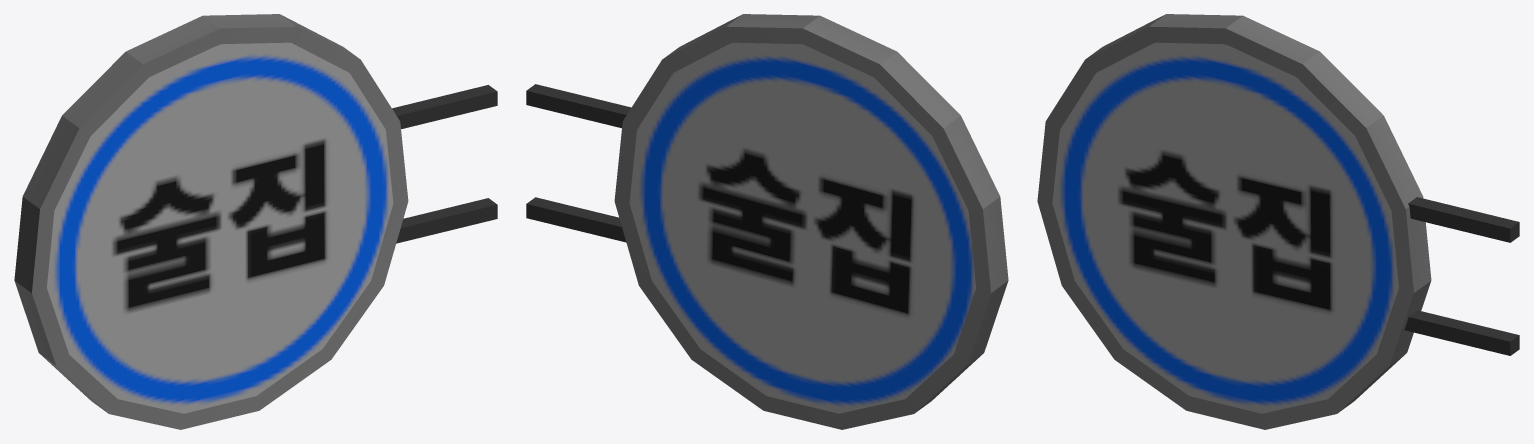
The model's file is B02_Enseigne_B_02.fbx.
3 views of the same model, side by side, from view 1: azimuth 30°, elevation 25°; view 2: azimuth 150°, elevation 25°; view 3: azimuth 330°, elevation 25° (orthographic).
Visible parts, largest first — view 1: B02_Enseigne_B_02; view 2: B02_Enseigne_B_02; view 3: B02_Enseigne_B_02.
Part boxes in pixels (x1,y1,x2,y2): B02_Enseigne_B_02: (14,14,497,429); B02_Enseigne_B_02: (526,14,1008,429); B02_Enseigne_B_02: (1037,14,1519,429).
Bounding box in the file's own units: 442 × 353 × 28.45.
